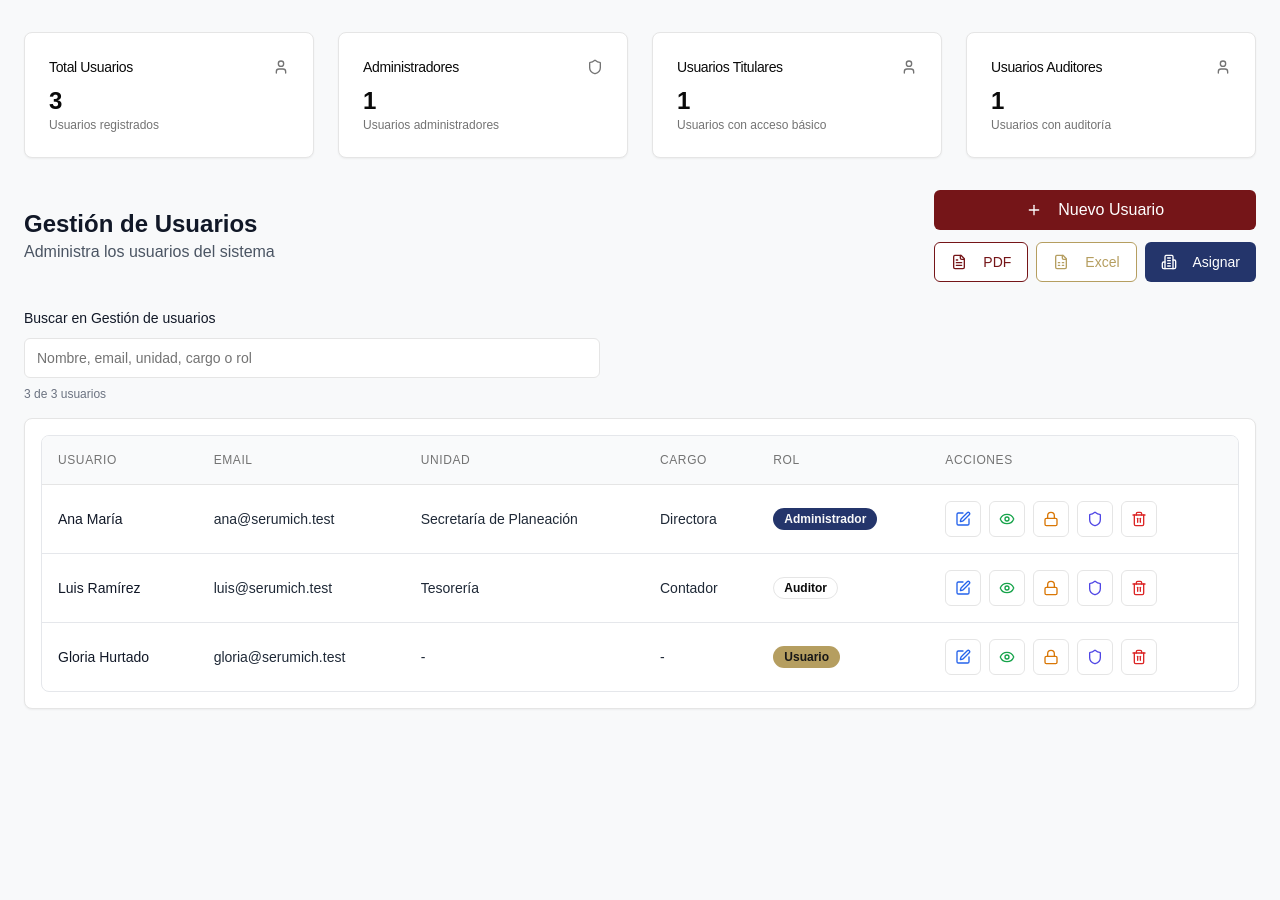
informa cuando no hay coincidencias y restaura el listado al limpiar
Expected: the text "Gloria Hurtado" is shown, [58,648,149,664]
Type "inexistente" into the search field labelled "Buscar en Gestión de usuarios" at point(312, 358), box [24,338,600,378]
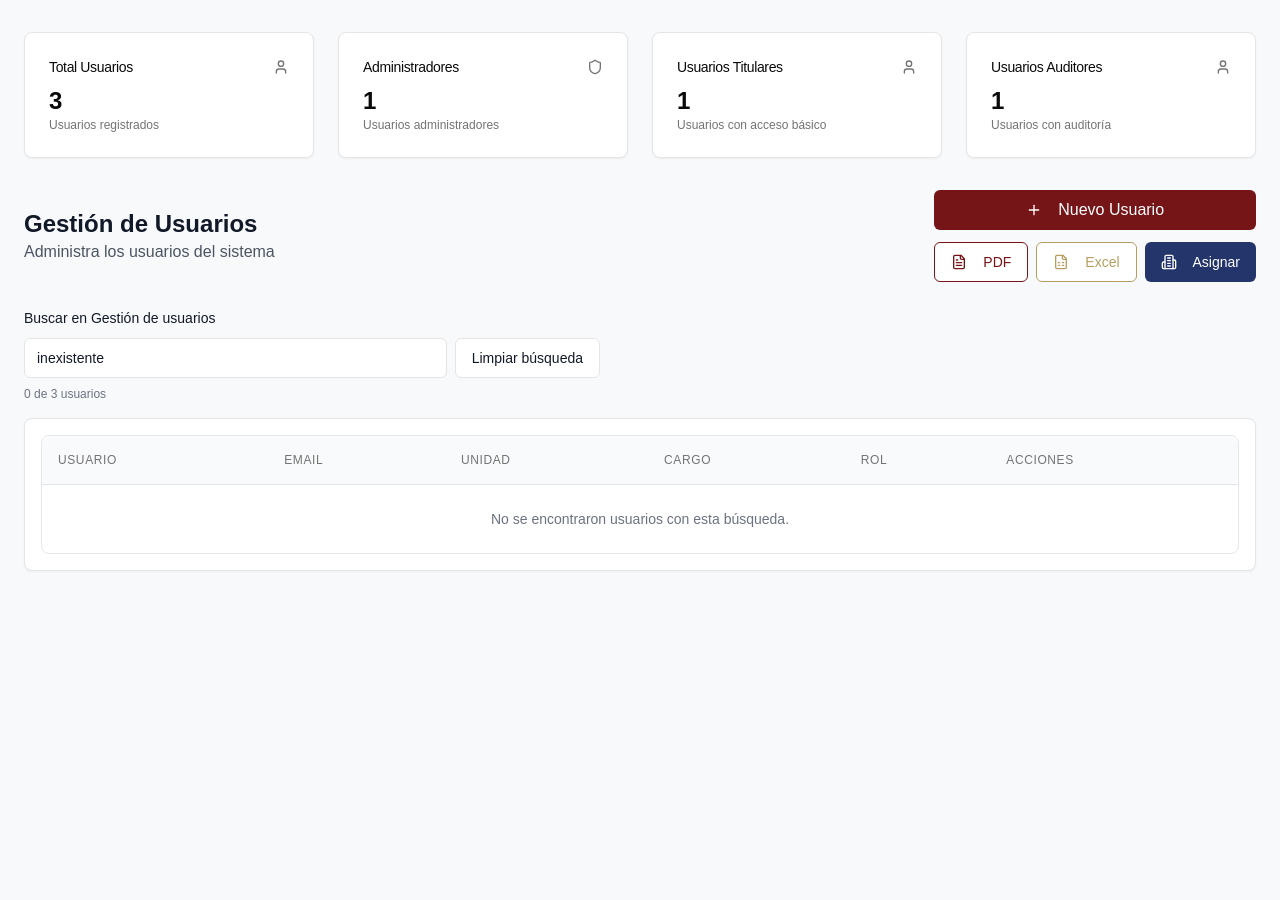
Expected: the text "No se encontraron usuarios con esta búsqueda." is shown, [42,484,1238,552]
Click the button "Limpiar búsqueda" at point(527, 358), box [455,338,600,378]
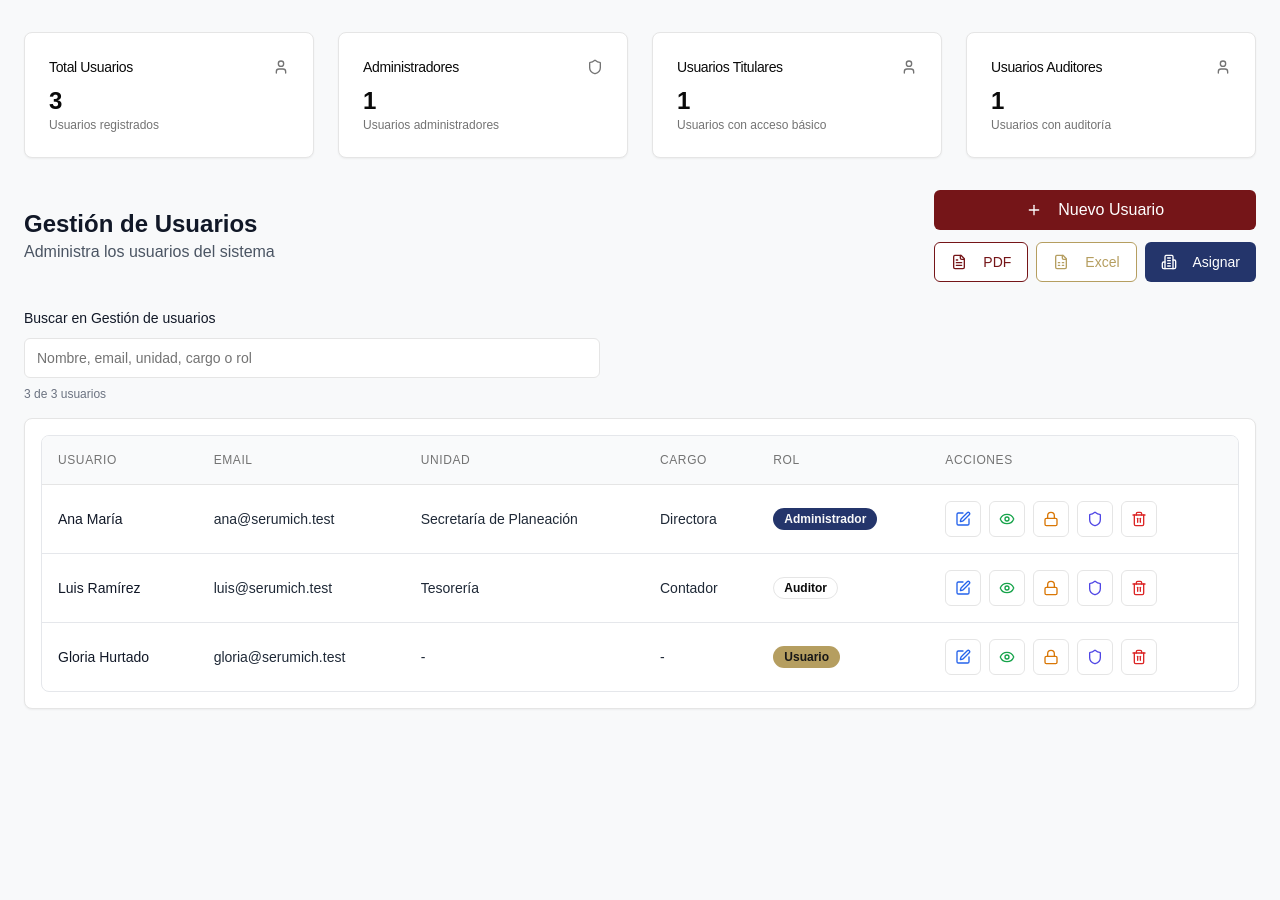
Expected: the search field labelled "Buscar en Gestión de usuarios" is empty, [24,338,600,378]
Expected: the text "3 de 3 usuarios" is shown, [24,387,106,401]
